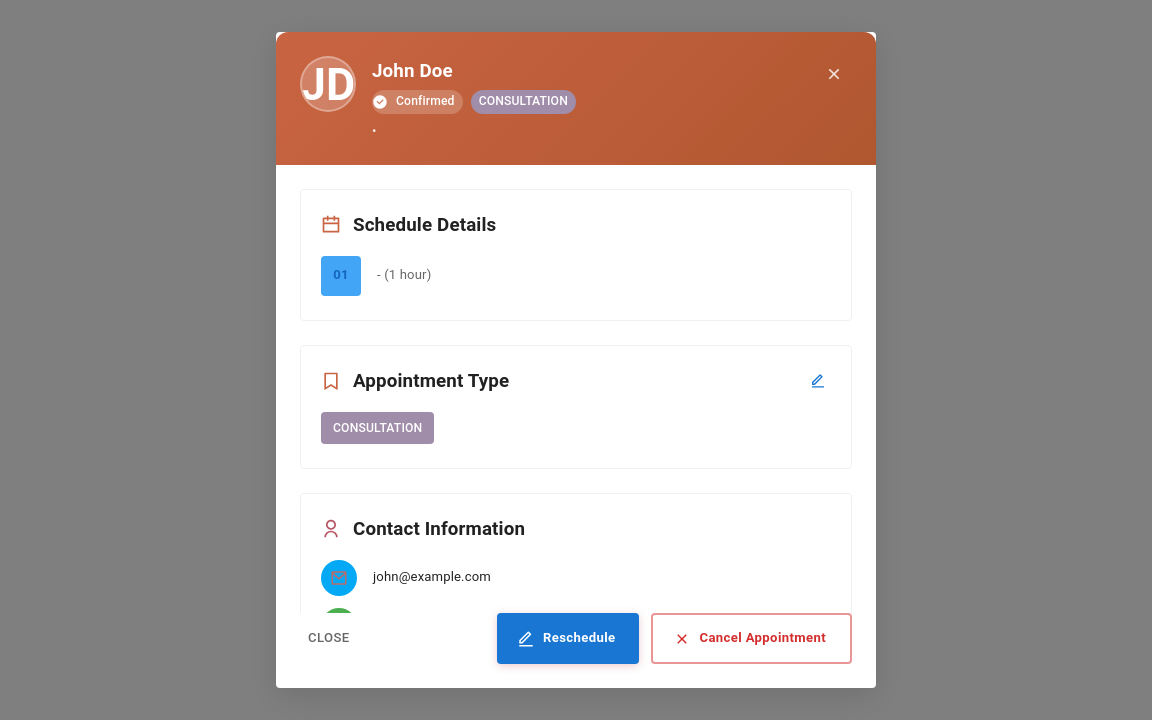
Test: AppointmentDetailsDialog - Type Editing › should disable actions when mutation is pending
// Start a type update
Click the button named "edit" at (818, 381), box x1=805 y1=368 x2=831 y2=394
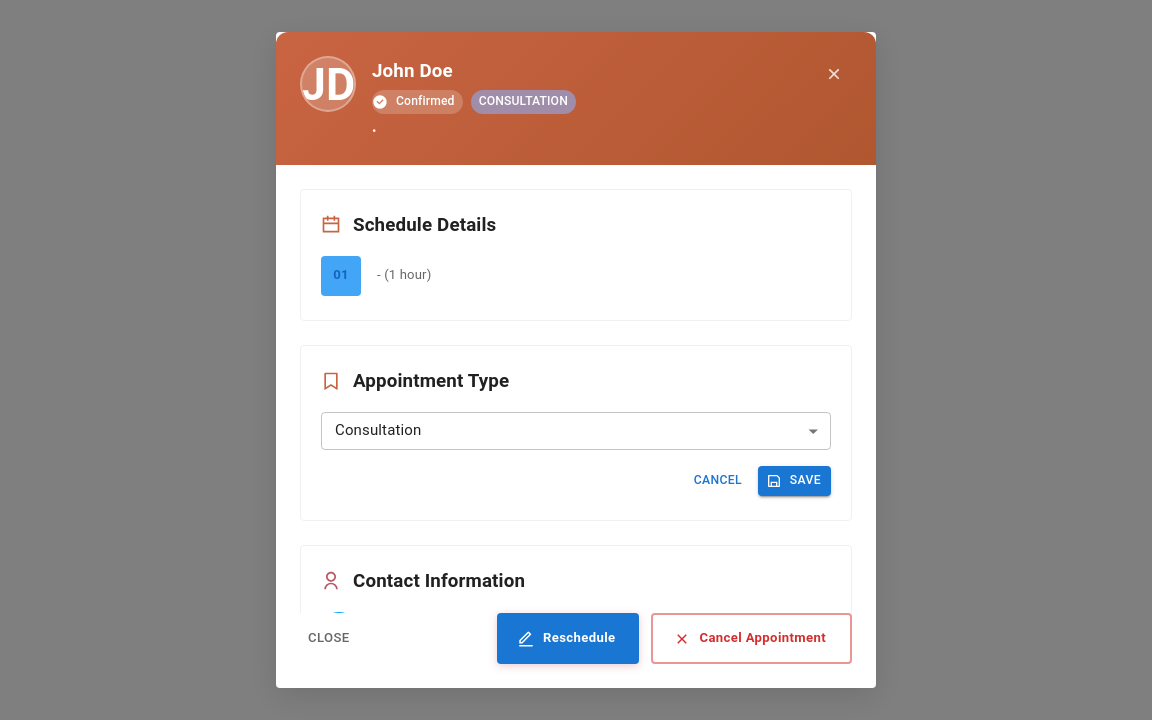
Click the button "Save" at (794, 481), box x1=758 y1=466 x2=831 y2=496
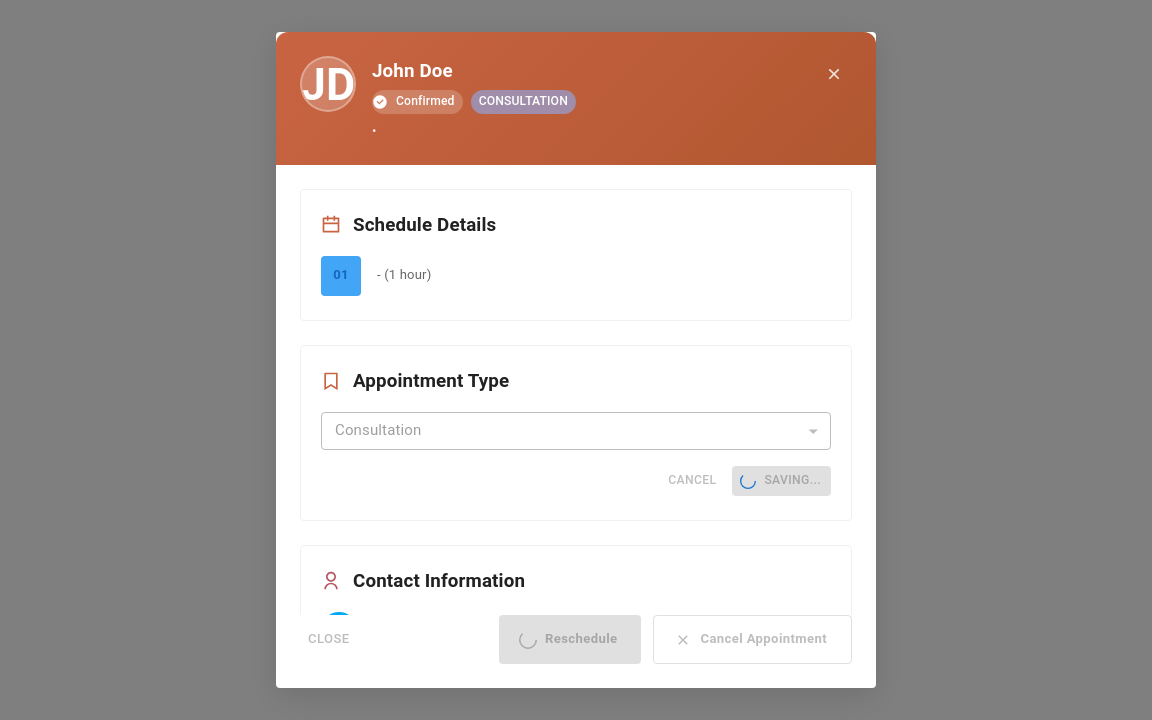
expect the button "Close" is disabled: met, box x1=300 y1=616 x2=358 y2=663
expect the button "Reschedule" is disabled: met, box x1=499 y1=615 x2=641 y2=664
